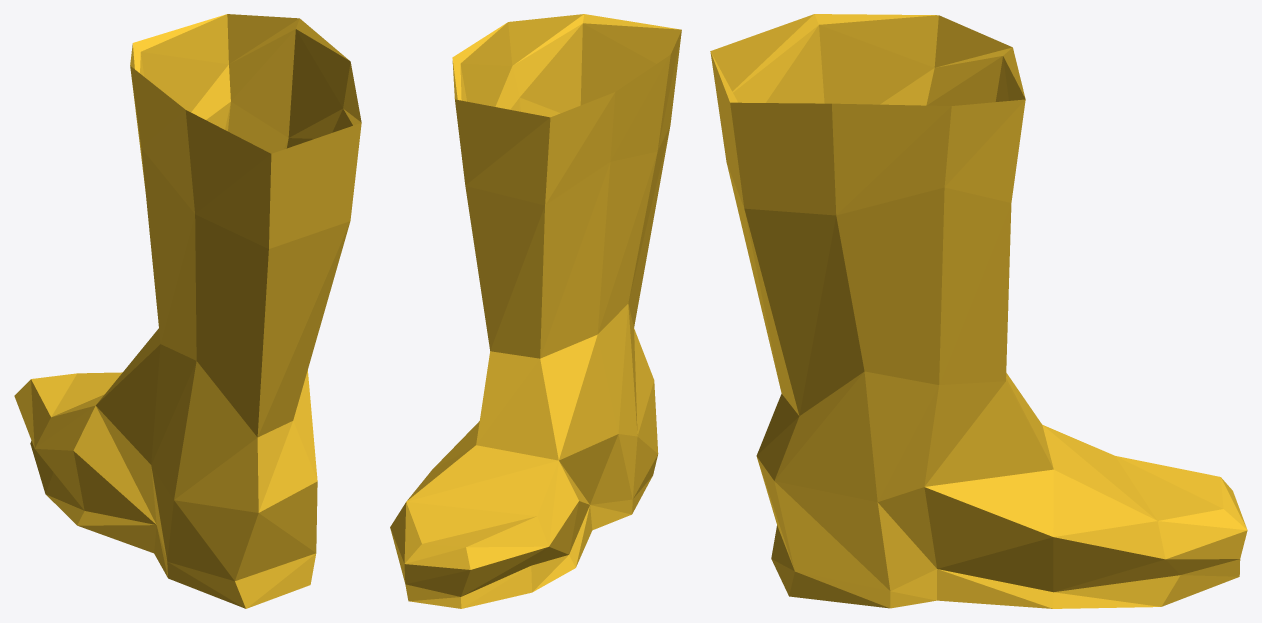
File: ZABAKS_001.FBX
The picture shows the model from 3 angles, left to right: view 1: azimuth 30°, elevation 25°; view 2: azimuth 150°, elevation 25°; view 3: azimuth 270°, elevation 25°; orthographic projection. The views are drawn at different scales.
Visible parts, largest first — view 1: ZABAKS_001; view 2: ZABAKS_001; view 3: ZABAKS_001.
Part boxes in pixels (x1=…): ZABAKS_001: x1=14, y1=14, x2=361, y2=608; ZABAKS_001: x1=390, y1=14, x2=681, y2=608; ZABAKS_001: x1=710, y1=14, x2=1247, y2=608.
Bounding box in the file's own units: 150 × 380 × 353.
Materials: 1 (1 with a texture image).
